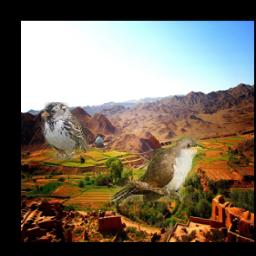Cuckoo: (109, 136, 204, 202)
Sparrow: (41, 103, 87, 161)
